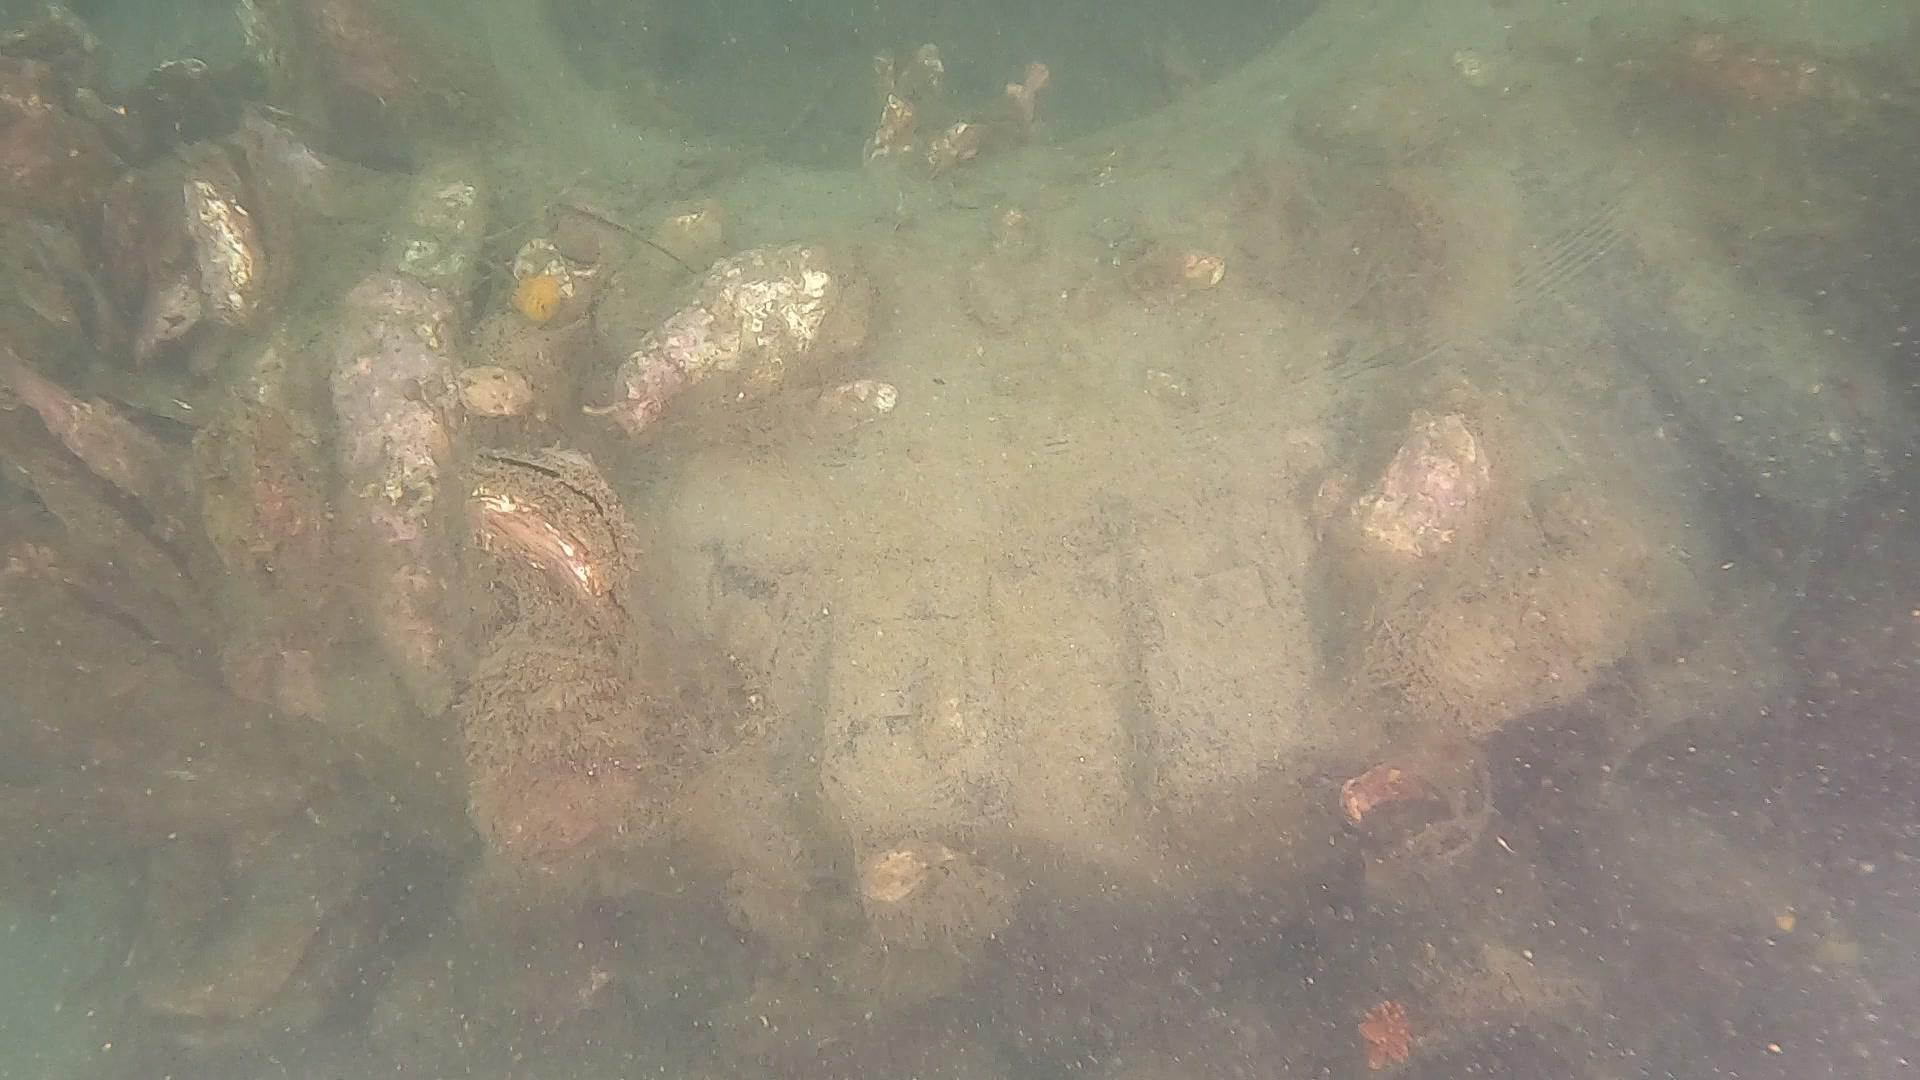tire: (0, 0, 1916, 914)
